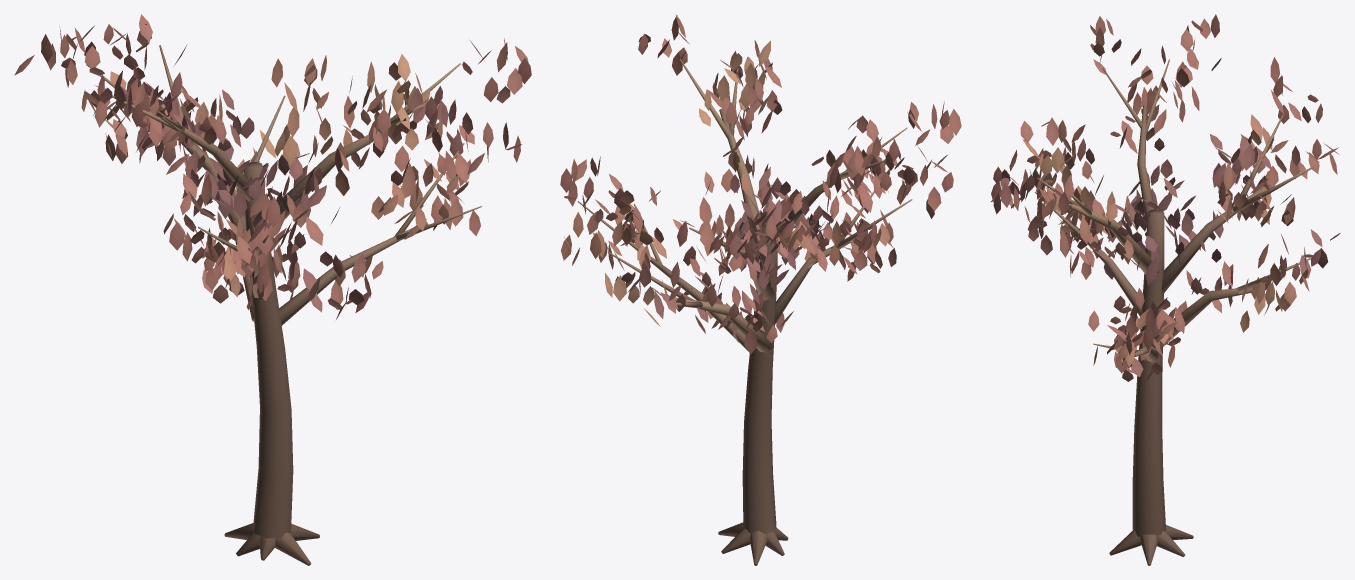
File: tree_3d_01_red.glb
3 views of the same model, side by side, from view 1: azimuth 30°, elevation 25°; view 2: azimuth 150°, elevation 25°; view 3: azimuth 270°, elevation 25° (orthographic). The views are drawn at different scales.
Parts seen in each view (by area): view 1: tree_3d_01_red_foliage, tree_3d_01_red_wood; view 2: tree_3d_01_red_foliage, tree_3d_01_red_wood; view 3: tree_3d_01_red_foliage, tree_3d_01_red_wood.
Boxes of the visible parts, bbox=[...] form: tree_3d_01_red_foliage: bbox=[14, 14, 531, 319]; tree_3d_01_red_wood: bbox=[86, 45, 481, 565]; tree_3d_01_red_foliage: bbox=[560, 14, 961, 353]; tree_3d_01_red_wood: bbox=[577, 59, 912, 565]; tree_3d_01_red_foliage: bbox=[990, 14, 1340, 381]; tree_3d_01_red_wood: bbox=[1035, 59, 1313, 565].
Size of the model in its own units: 8.8 by 10.5 by 7.15.
